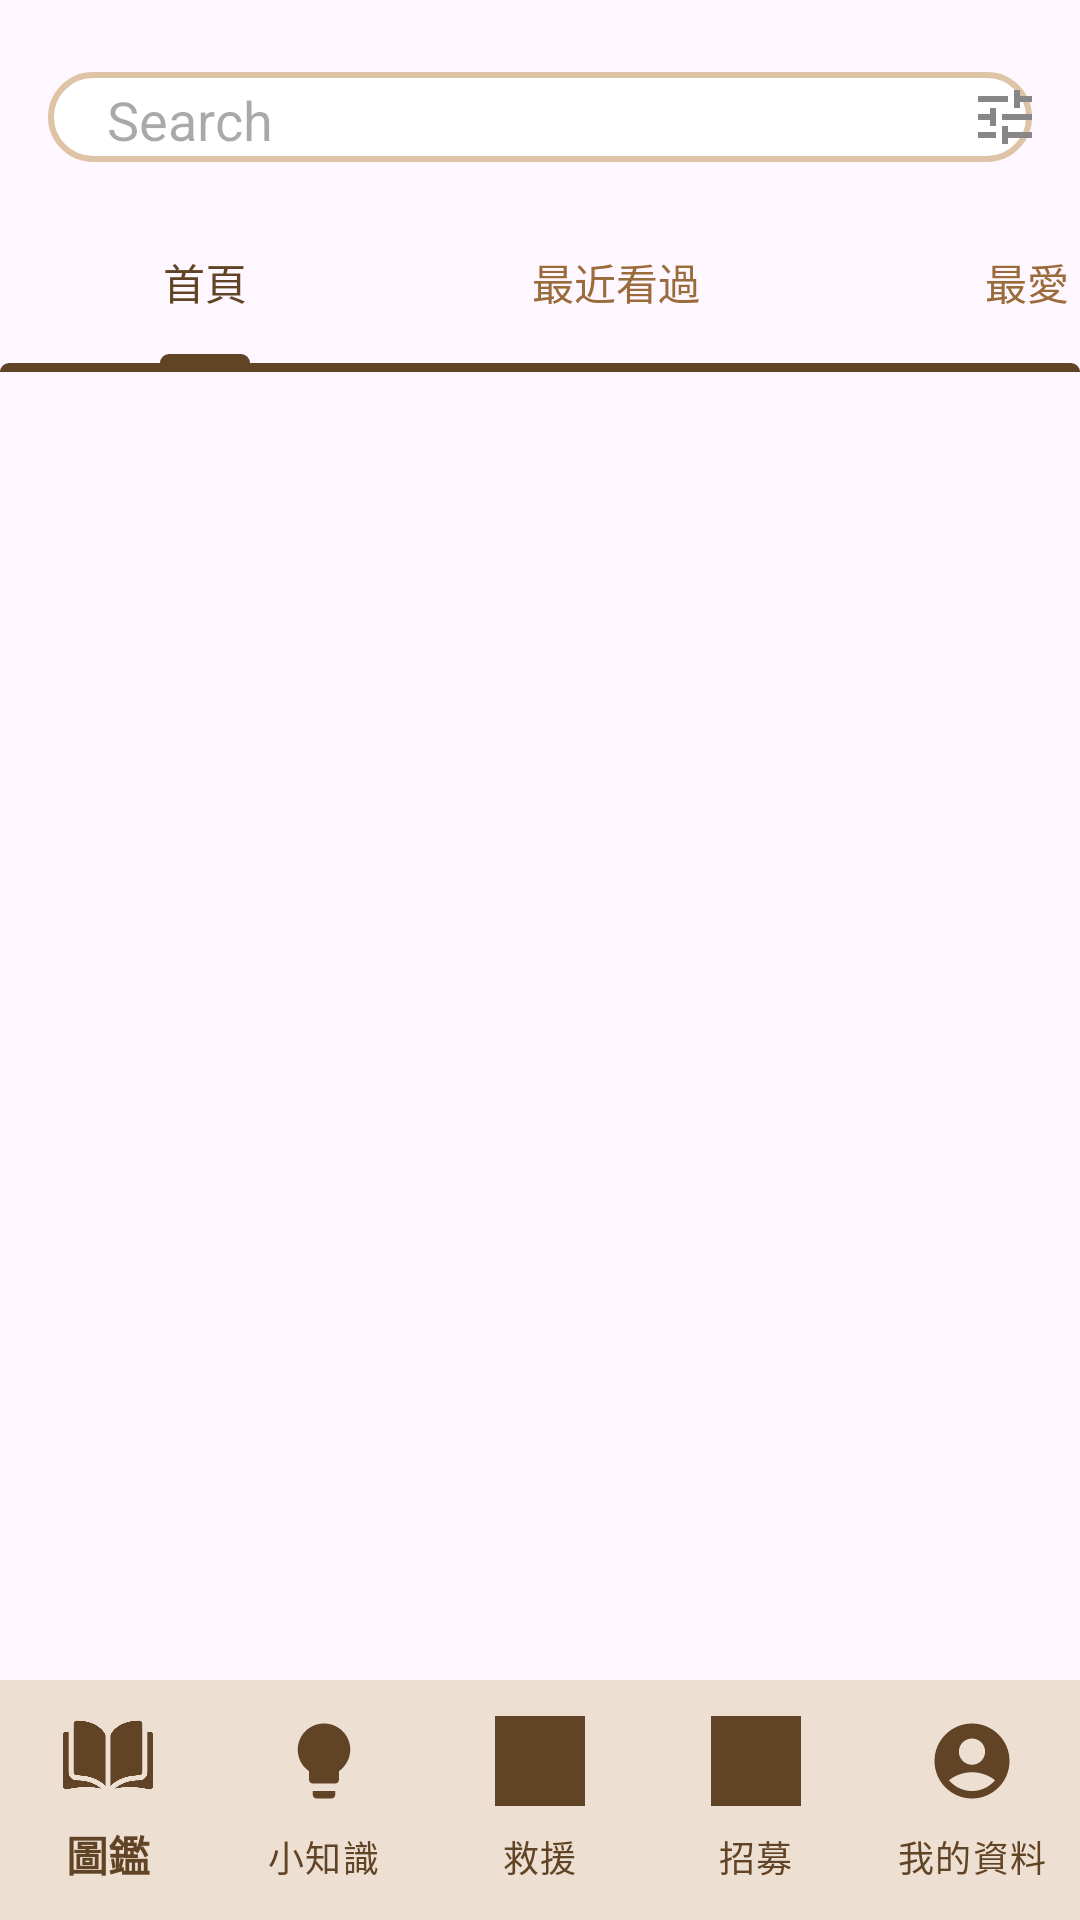

Where icons sit on this 1080x1920 app screen, as (x1, y1, x2, y2):
tune: (977, 72, 1032, 162)
